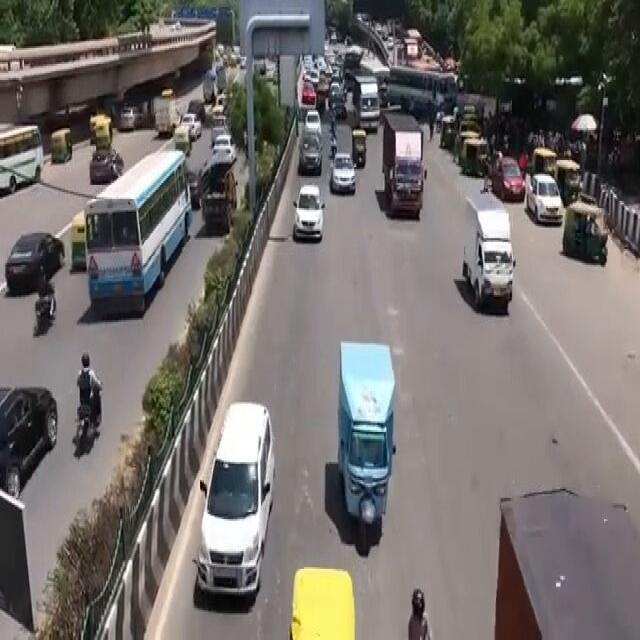three_wheeler: (310, 320, 416, 558)
